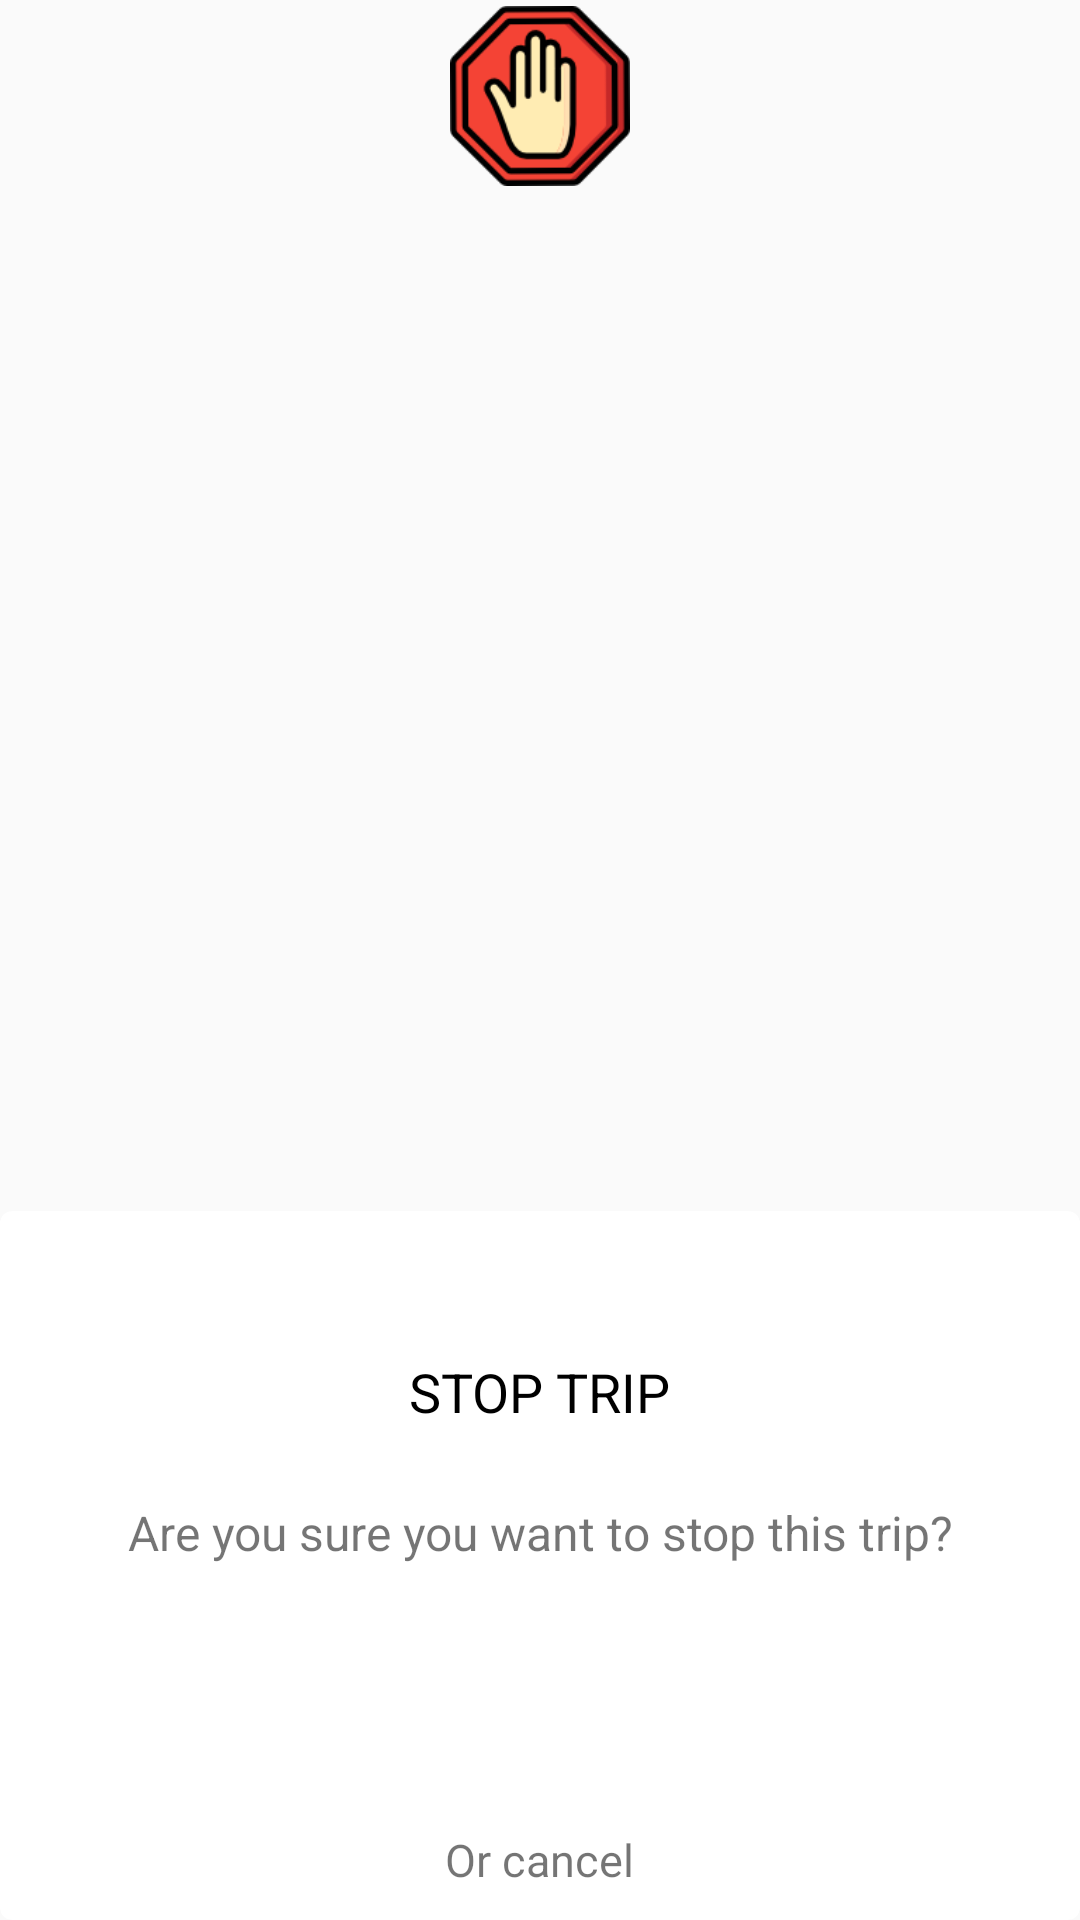

Point at icon controls on the screen. Image size 1080*1920, points as [x,y].
stop: [540,96]
